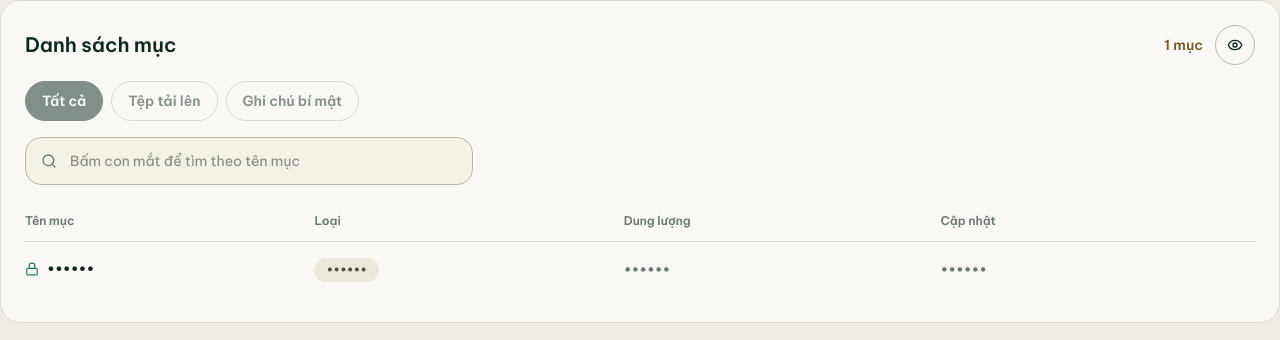
Test: AssetList › masks name, kind, size and date until the PIN is confirmed
The image size is (1280, 340).
Check: the number of rows named "Mục đang ẩn" is 1, box [25,242,1255,298]
Check: the text "Ví điện tử" is not shown
Step 1. Click the button named "Hiện thông tin các mục" → (1235, 45), box [1215,25,1255,65]
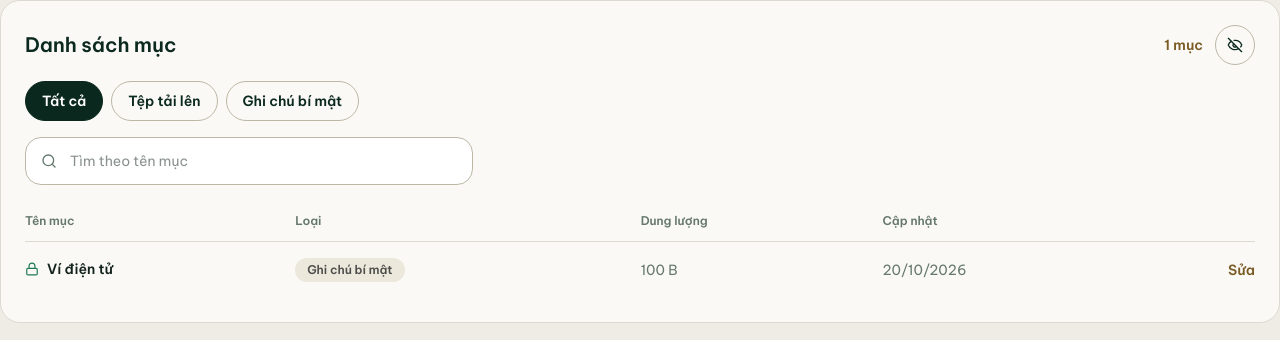
Check: the button named "Ẩn thông tin các mục" is shown
Check: the link "Ví điện tử" is shown, box [25,259,113,279]
Step 2. Click the button named "Ẩn thông tin các mục" → (1235, 45), box [1215,25,1255,65]
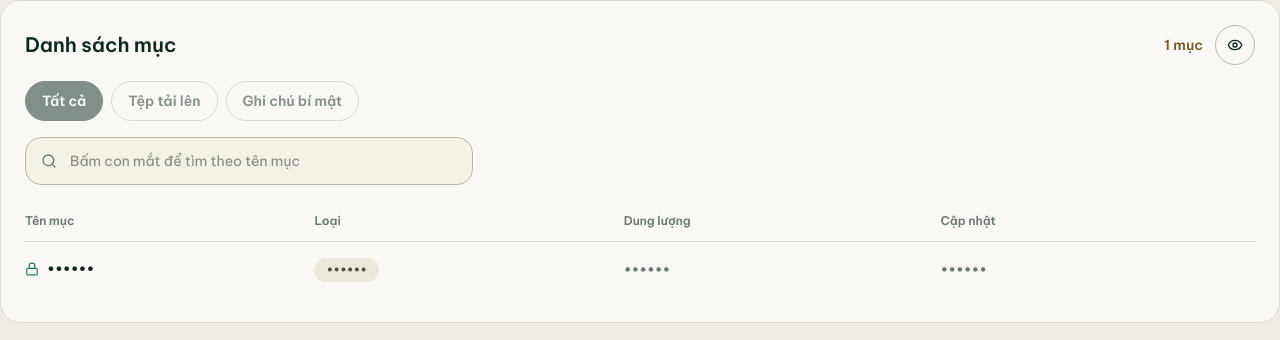
Check: the link "Ví điện tử" is gone
